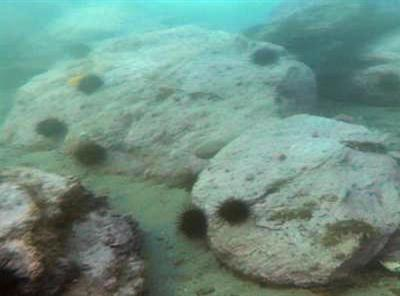urchin: (177, 205, 212, 240), (216, 196, 255, 227), (72, 140, 108, 168), (251, 45, 283, 69), (77, 74, 105, 96), (36, 115, 63, 137)
